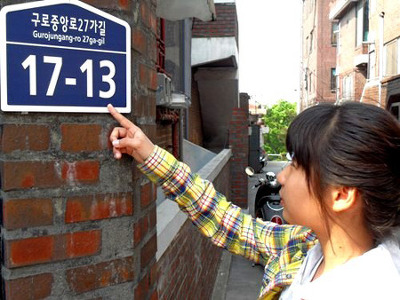building_license_plate1: (1, 1, 130, 114)
